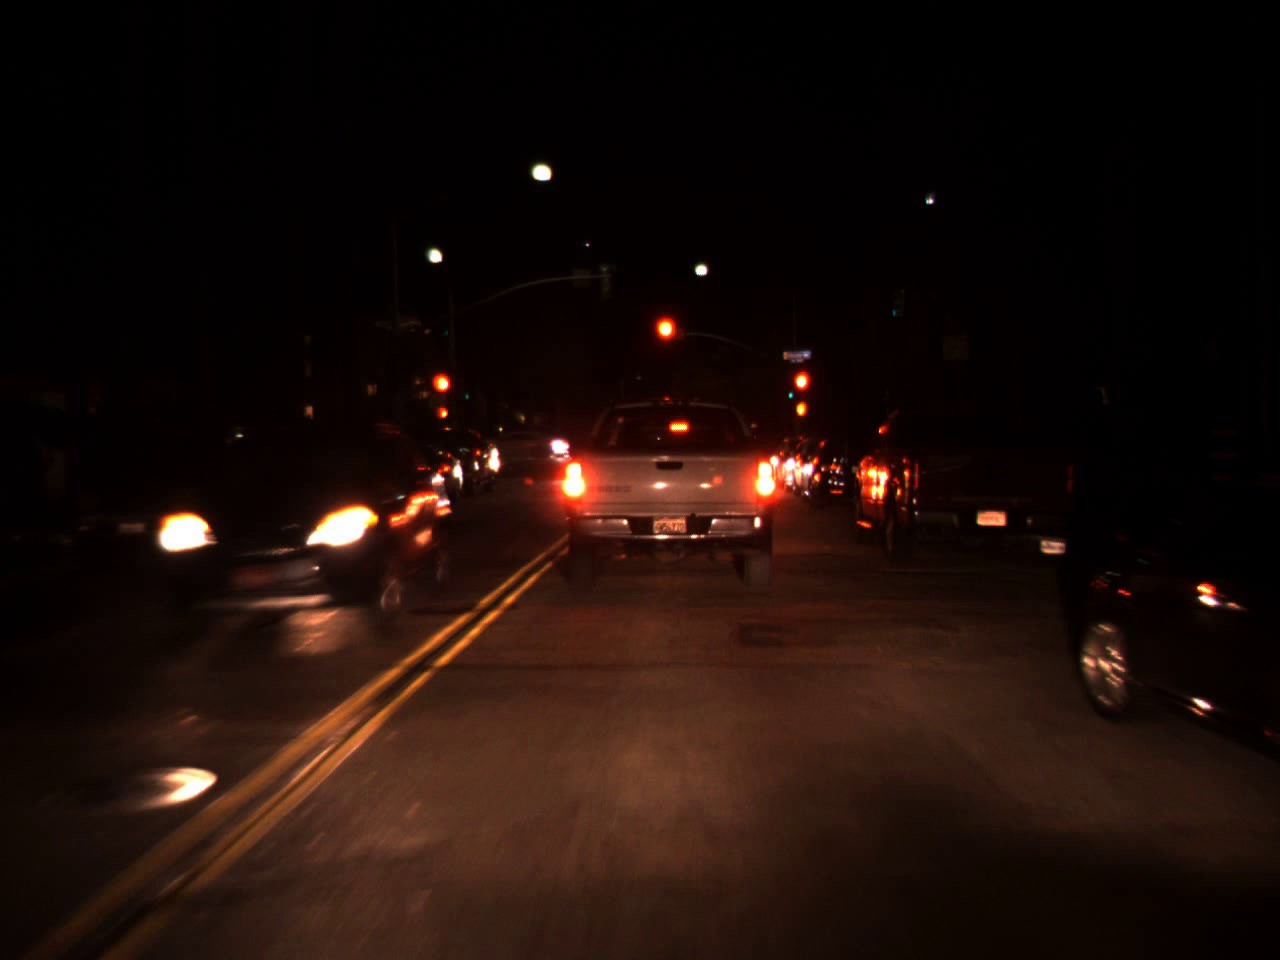stop: (651, 312, 679, 368), (790, 367, 814, 415), (430, 369, 454, 417)
